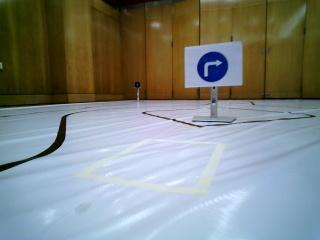right: (189, 45, 234, 85)
